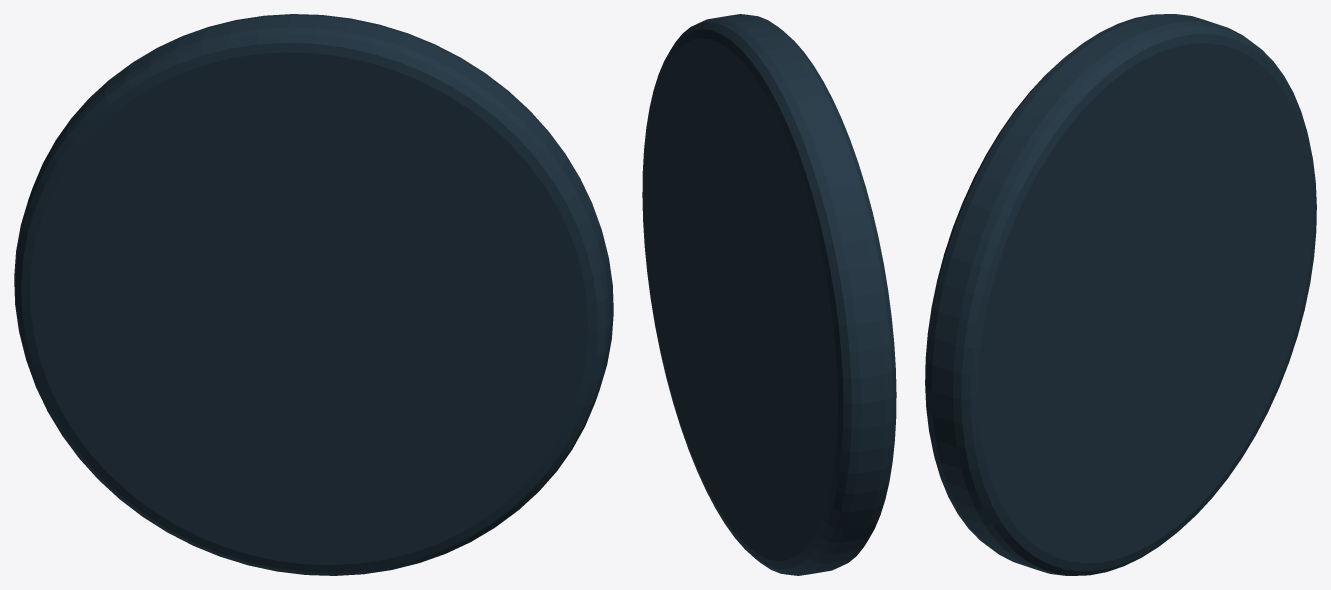
The model's file is SM_HC_BeatSpeaker_05.fbx.
3 views of the same model, side by side, from view 1: azimuth 30°, elevation 25°; view 2: azimuth 150°, elevation 25°; view 3: azimuth 270°, elevation 25° (orthographic). The views are drawn at different scales.
Parts seen in each view (by area): view 1: SM_HC_BeatSpeaker_05; view 2: SM_HC_BeatSpeaker_05; view 3: SM_HC_BeatSpeaker_05.
Part boxes in pixels (bbox=[...]): SM_HC_BeatSpeaker_05: bbox=[14, 14, 613, 575]; SM_HC_BeatSpeaker_05: bbox=[642, 14, 896, 575]; SM_HC_BeatSpeaker_05: bbox=[925, 14, 1316, 575].
Bounding box in the file's own units: 106 × 87.19 × 128.
